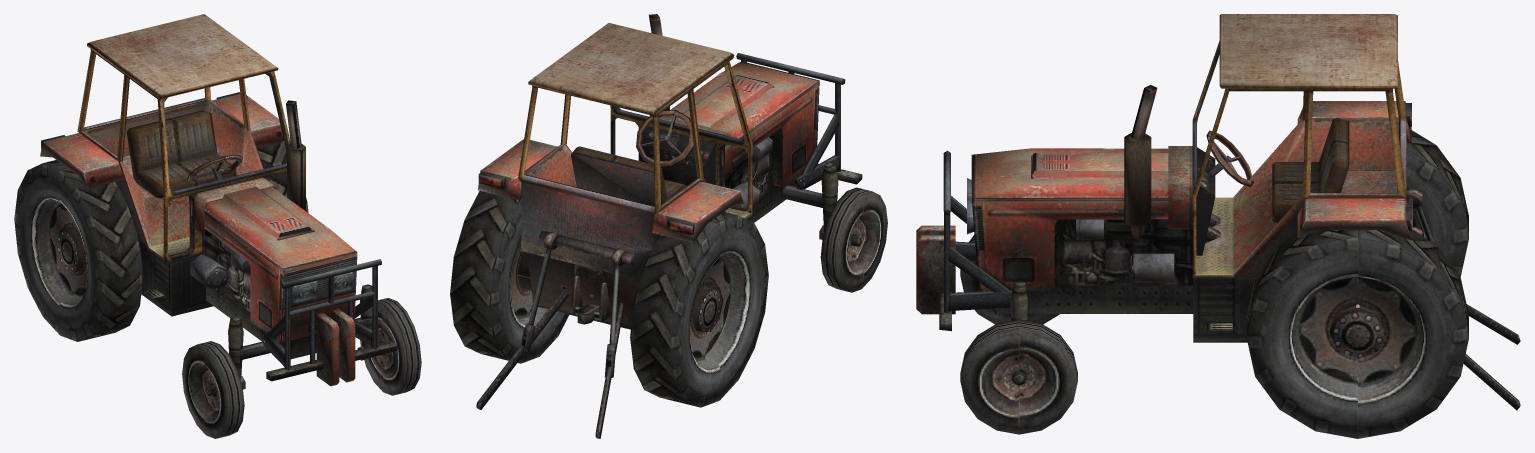
Rendered from tractor.glb.
The picture shows the model from 3 angles, left to right: view 1: azimuth 30°, elevation 25°; view 2: azimuth 150°, elevation 25°; view 3: azimuth 270°, elevation 25°; orthographic projection. The views are drawn at different scales.
Parts seen in each view (by area): view 1: tractor; view 2: tractor; view 3: tractor.
Part boxes in pixels (x1=…): tractor: x1=14, y1=14, x2=421, y2=438; tractor: x1=450, y1=14, x2=887, y2=438; tractor: x1=916, y1=14, x2=1520, y2=438.
Size of the model in its own units: 1.48 by 1.82 by 3.02.
Materials: 1 (1 with a texture image).
